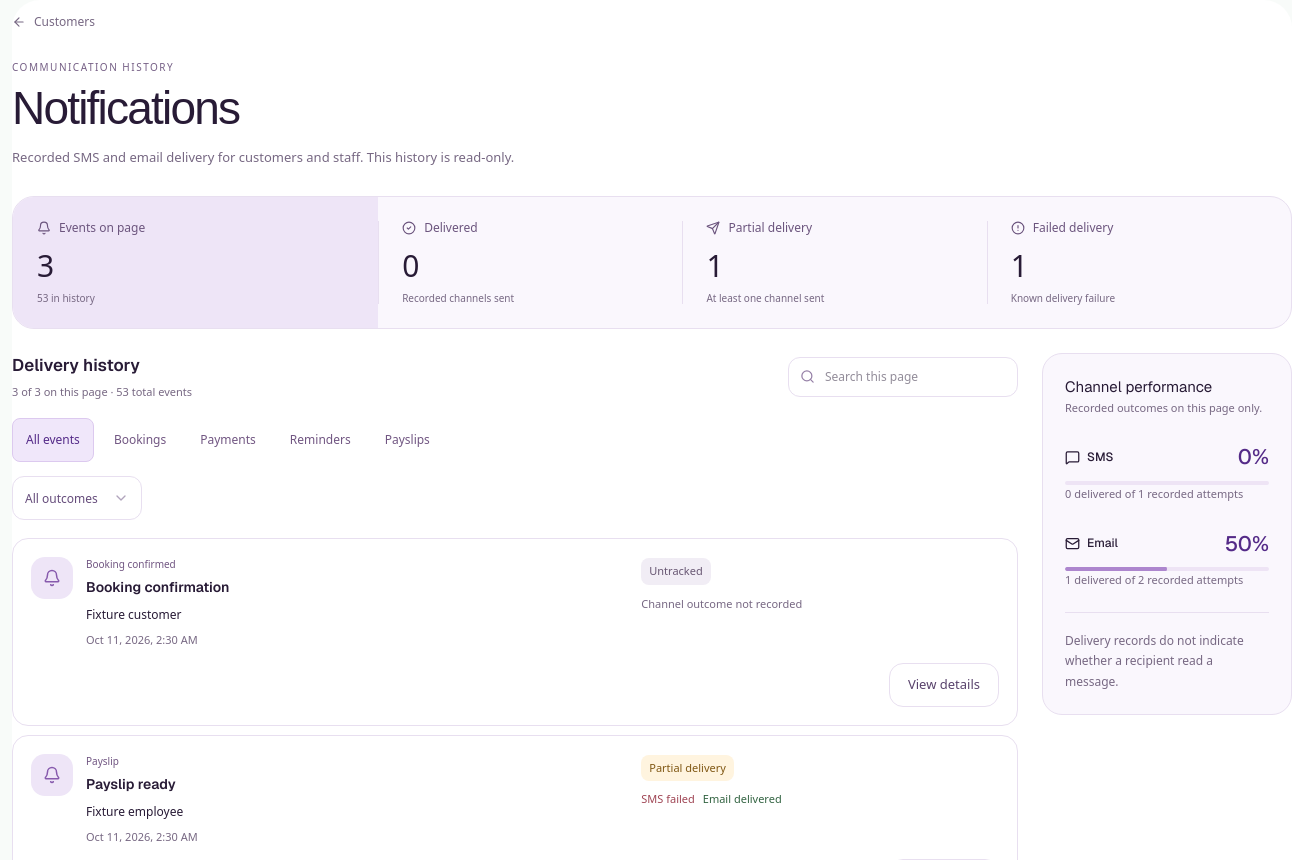
Test case: Notifications redesign › filters outcomes through the themed menu
This screenshot has width=1292, height=860.
Press Enter in the dropdown named "Delivery outcome on this page", box [12, 476, 142, 520]
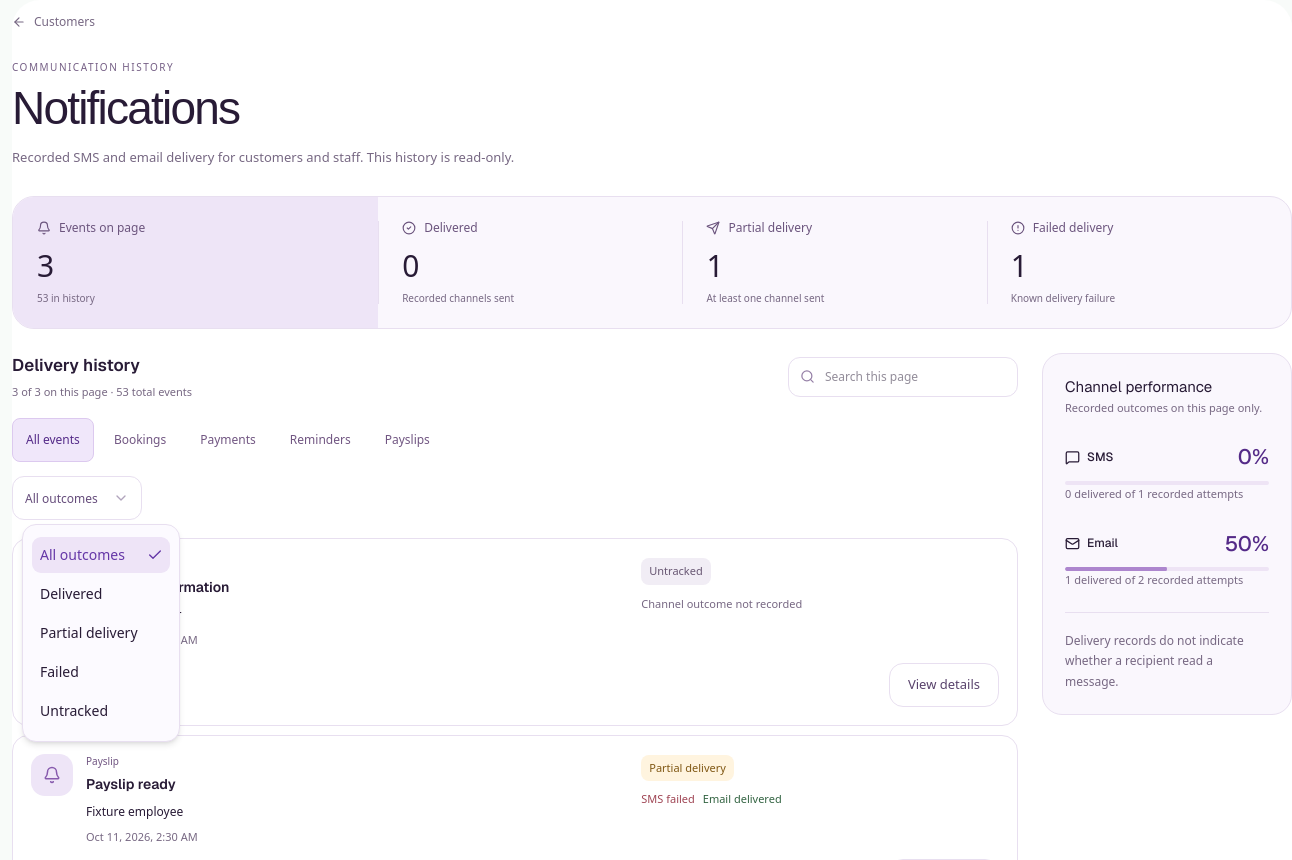
Click the option "Failed": (59, 672) [40, 662, 79, 681]
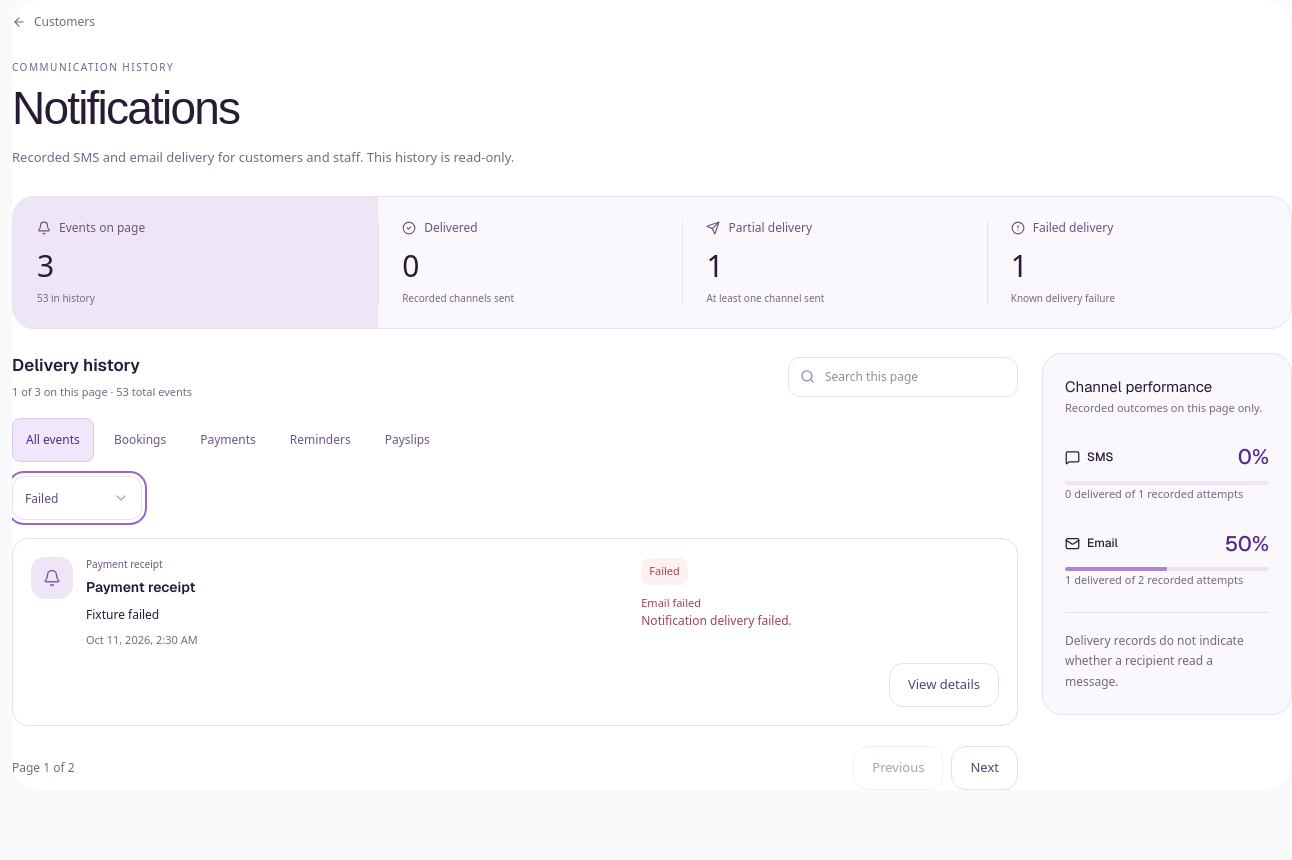
Check: the text "Fixture failed" is shown, box [86, 606, 159, 623]
Check: the text "Fixture employee" is gone
Check: the text "Fixture customer" is gone
